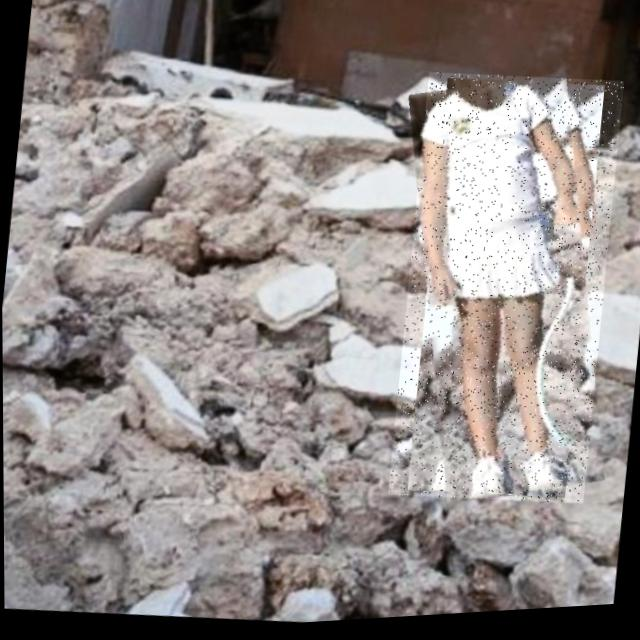Person in Rubble: (385, 68, 626, 519)
